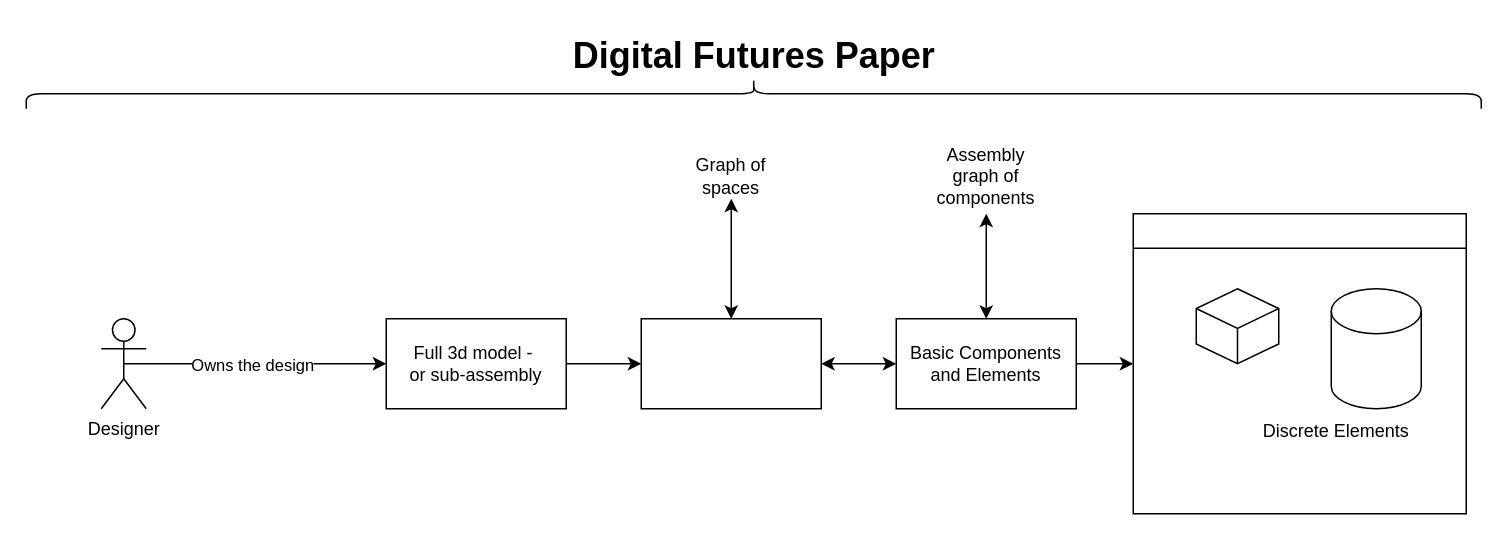
Some shapes in this 1508 by 540 pixel diagram are drawn without their labels. Each missing label, with the box of its shape:
Blockchain Enabled Marketplace: (1132, 212, 1466, 514)
Spaces & Spatial Topology: (640, 317, 821, 409)
